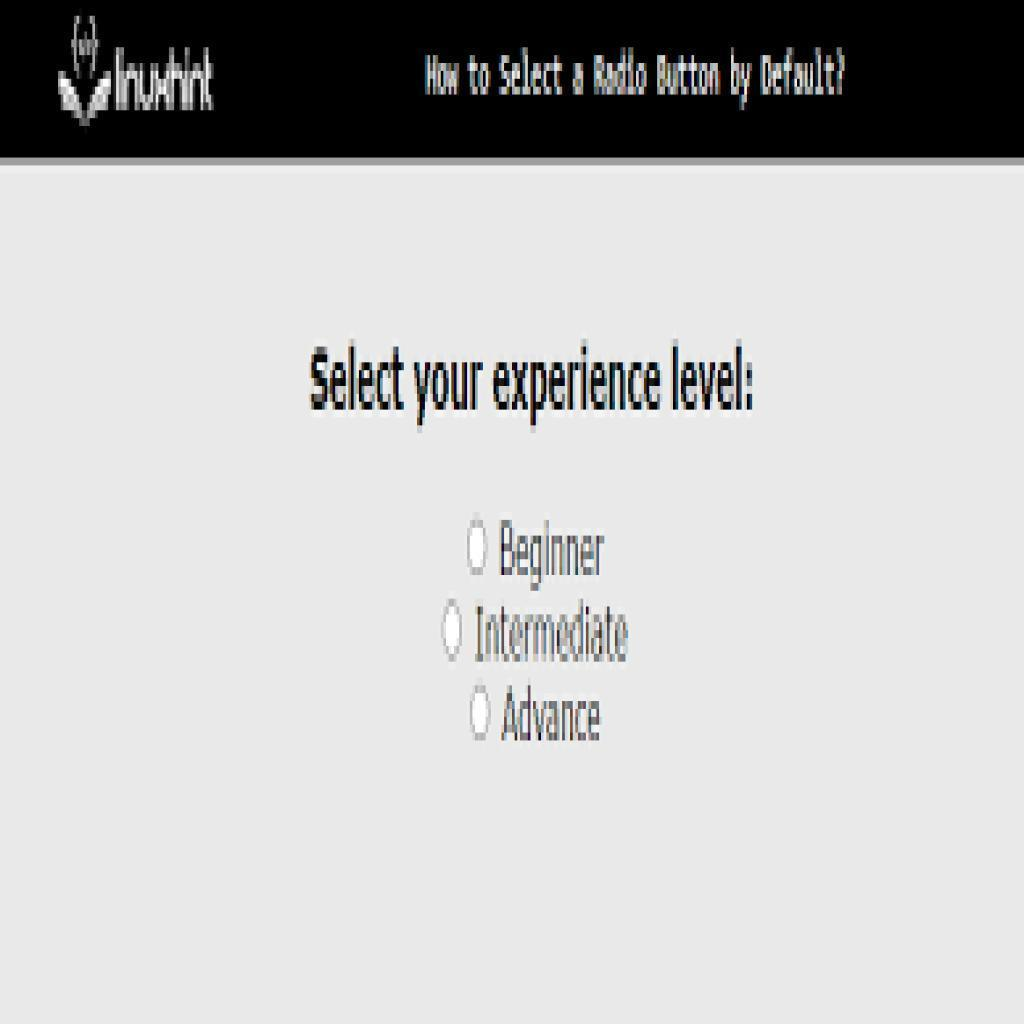label: (473, 602, 632, 672), (500, 515, 613, 592), (502, 685, 605, 748)
radio: (439, 595, 467, 667), (470, 682, 496, 748), (467, 511, 491, 579)
